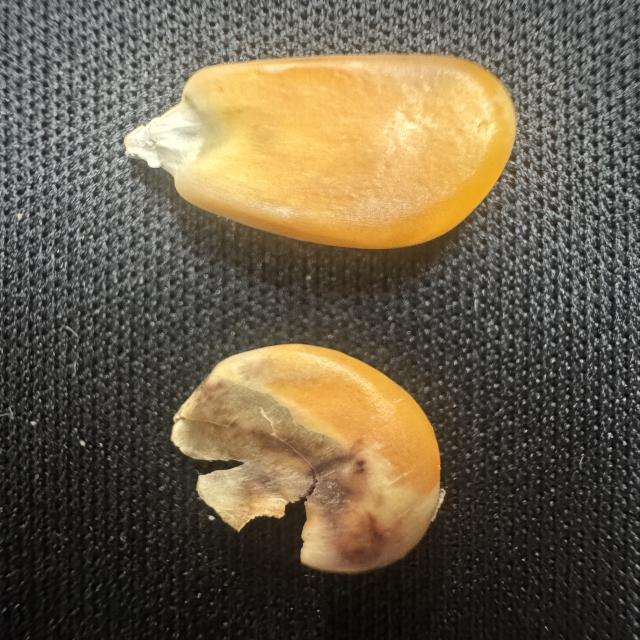Bad-Seed: (159, 334, 458, 588)
Good-Seed: (106, 44, 523, 260)
